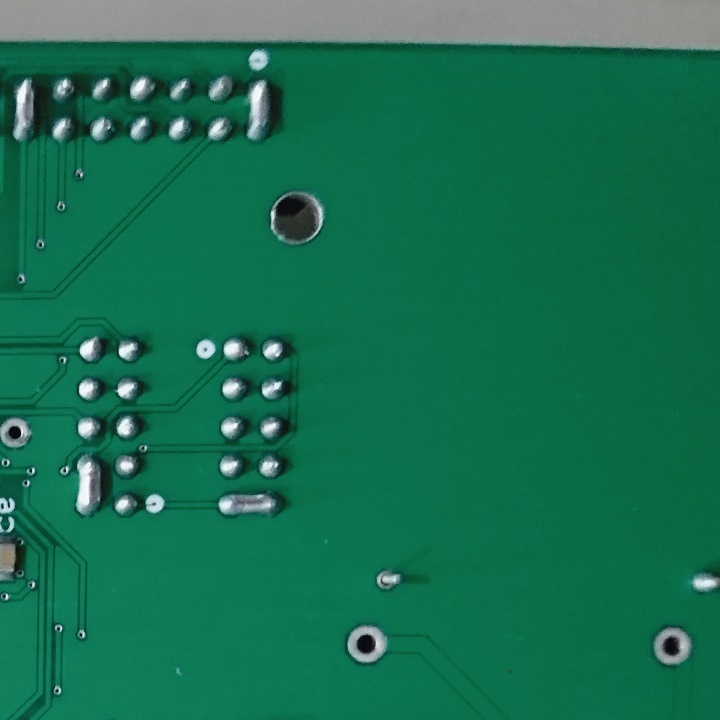F: (647, 623, 696, 672), (341, 621, 390, 668), (1, 412, 36, 455), (373, 566, 407, 593)
P: (71, 450, 107, 521), (7, 74, 42, 146), (212, 487, 286, 521), (244, 72, 273, 148)
